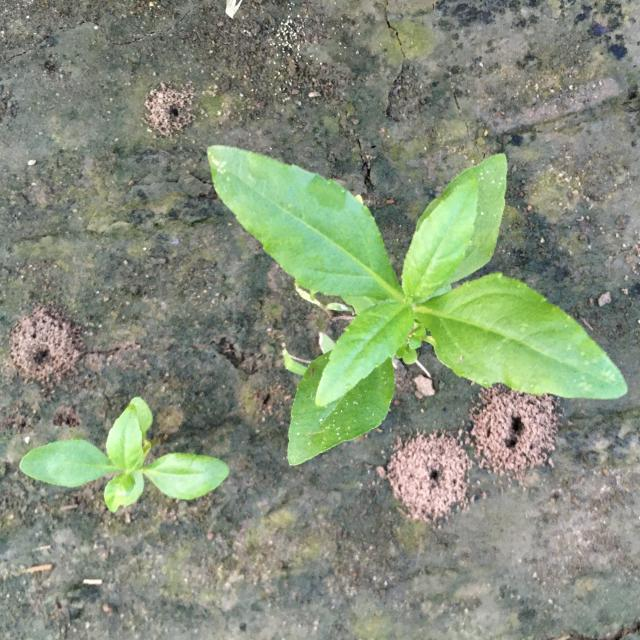Eclipta: (207, 144, 628, 466), (19, 397, 230, 513)
